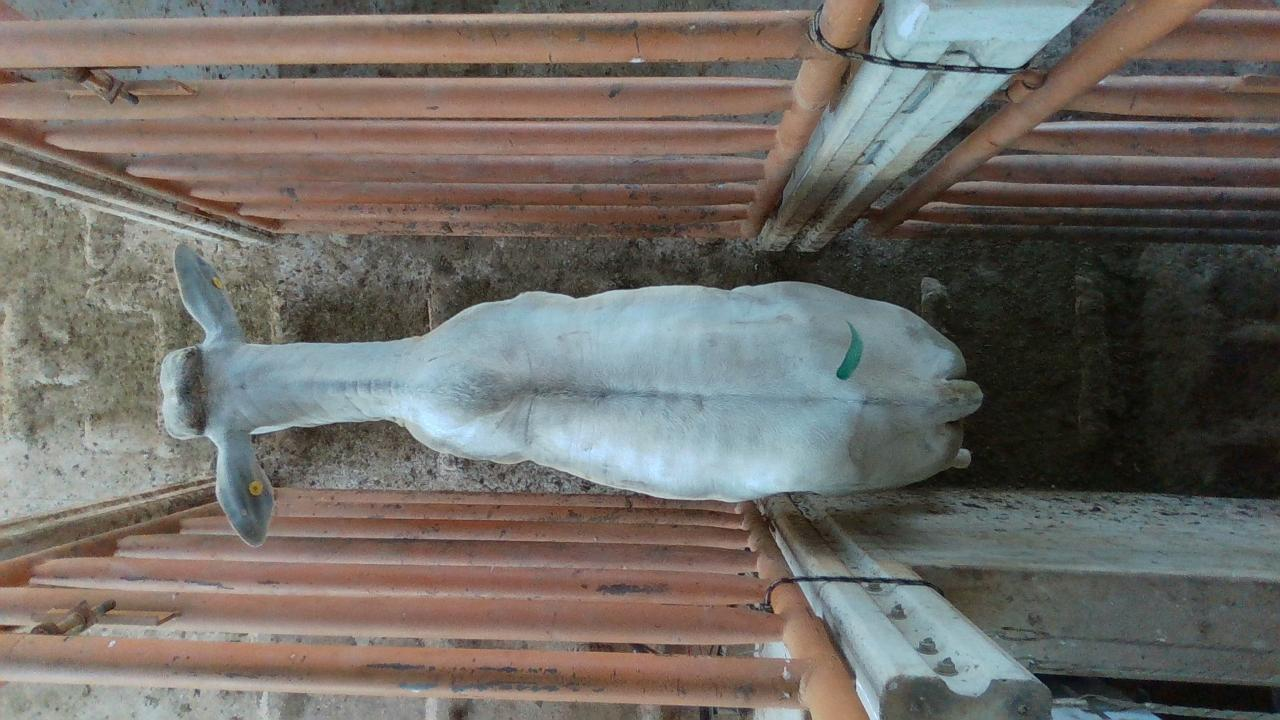cattle: (157, 242, 984, 547)
